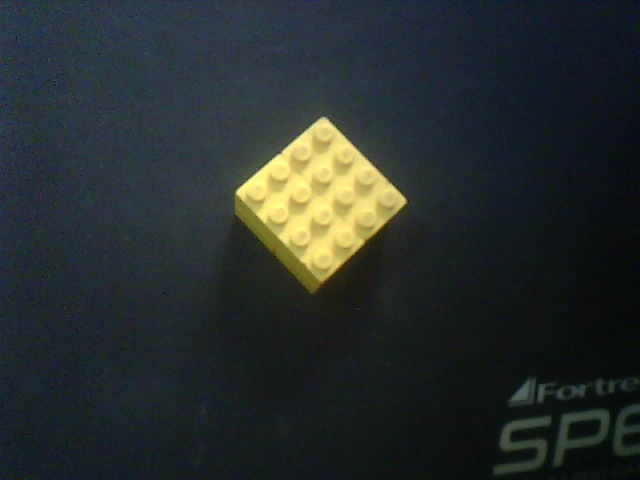lego: (232, 115, 409, 296)
